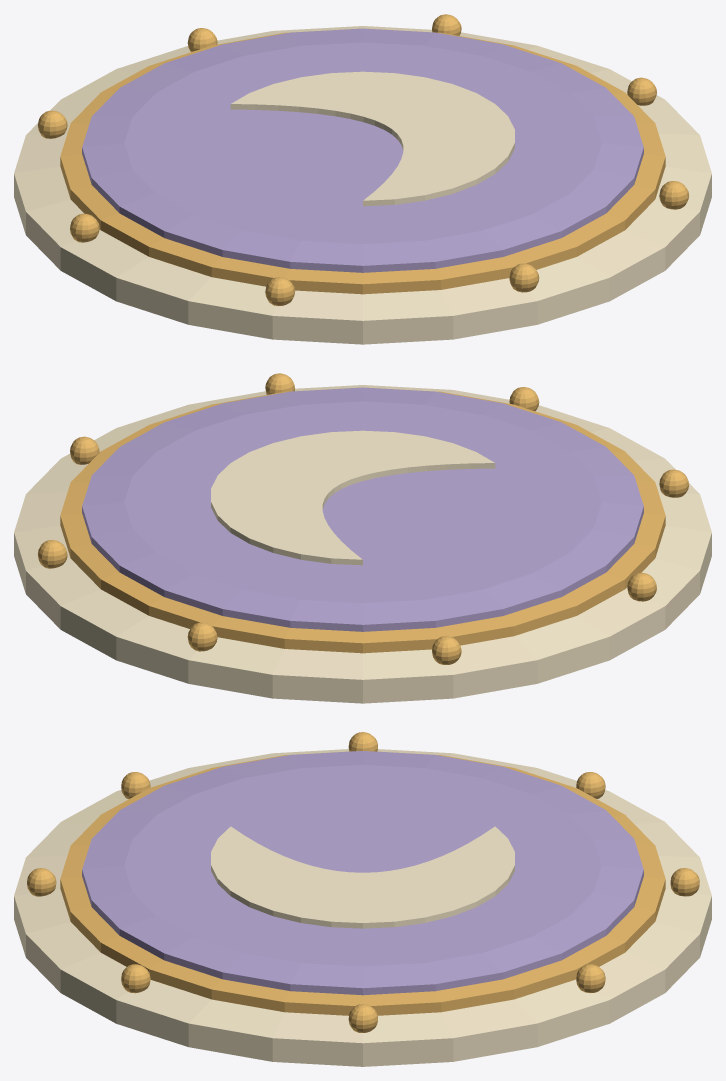
Rendered from Moon_cooperation_pedestal.obj.
3 views of the same model, one above another, from view 1: azimuth 30°, elevation 25°; view 2: azimuth 150°, elevation 25°; view 3: azimuth 270°, elevation 25° (orthographic).
Visible parts, largest first — view 1: Colored_ceramic, Carved_base, Inset_brass, Raised_Moon, Brass_rivet; view 2: Colored_ceramic, Carved_base, Inset_brass, Raised_Moon, Brass_rivet; view 3: Colored_ceramic, Carved_base, Inset_brass, Raised_Moon, Brass_rivet.
Part boxes in pixels (bbox=[...]): Colored_ceramic: bbox=[82, 28, 643, 272]; Carved_base: bbox=[14, 26, 711, 344]; Inset_brass: bbox=[60, 28, 665, 294]; Raised_Moon: bbox=[230, 71, 514, 206]; Brass_rivet: bbox=[38, 14, 689, 306]; Colored_ceramic: bbox=[82, 387, 643, 631]; Carved_base: bbox=[14, 385, 711, 703]; Inset_brass: bbox=[60, 387, 665, 653]; Raised_Moon: bbox=[211, 430, 495, 565]; Brass_rivet: bbox=[37, 373, 689, 664]; Colored_ceramic: bbox=[82, 751, 643, 995]; Carved_base: bbox=[14, 749, 711, 1066]; Inset_brass: bbox=[60, 750, 665, 1015]; Raised_Moon: bbox=[211, 826, 514, 928]; Brass_rivet: bbox=[27, 732, 699, 1032].
Size of the model in its own units: 2.56 by 0.2784 by 2.56.
